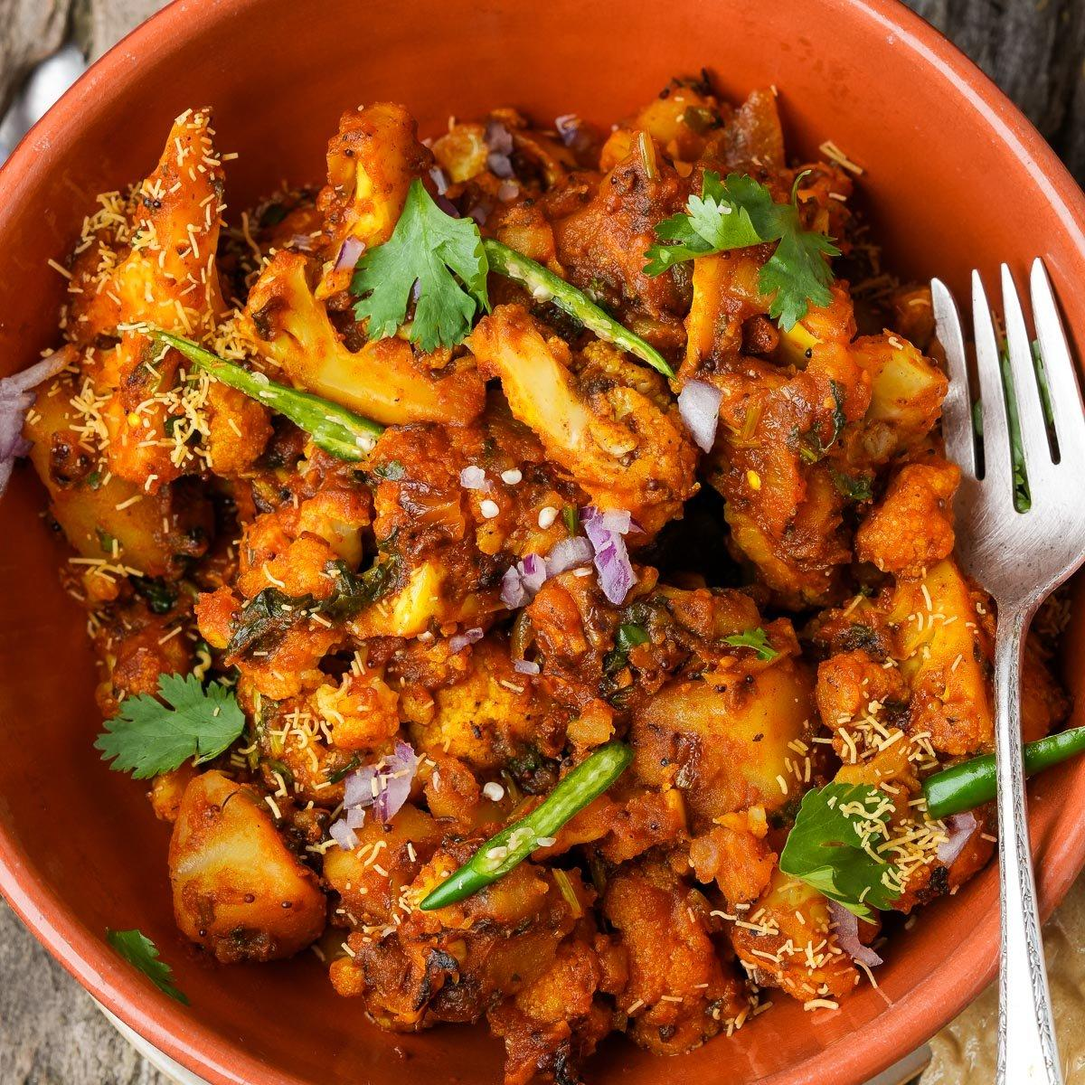aloo gobhi: (55, 100, 999, 1085)
